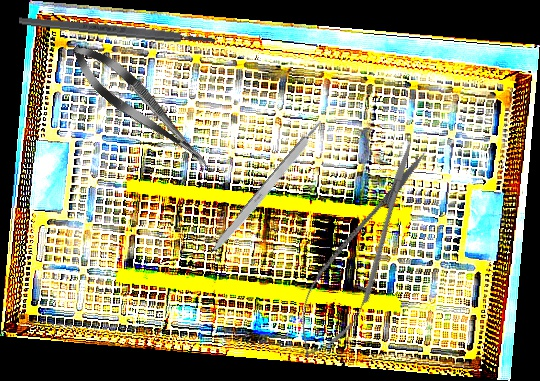Micro Scissor: (278, 132, 446, 372), (62, 34, 220, 180)
Scalpel Handle: (207, 118, 328, 258), (18, 14, 216, 47)
